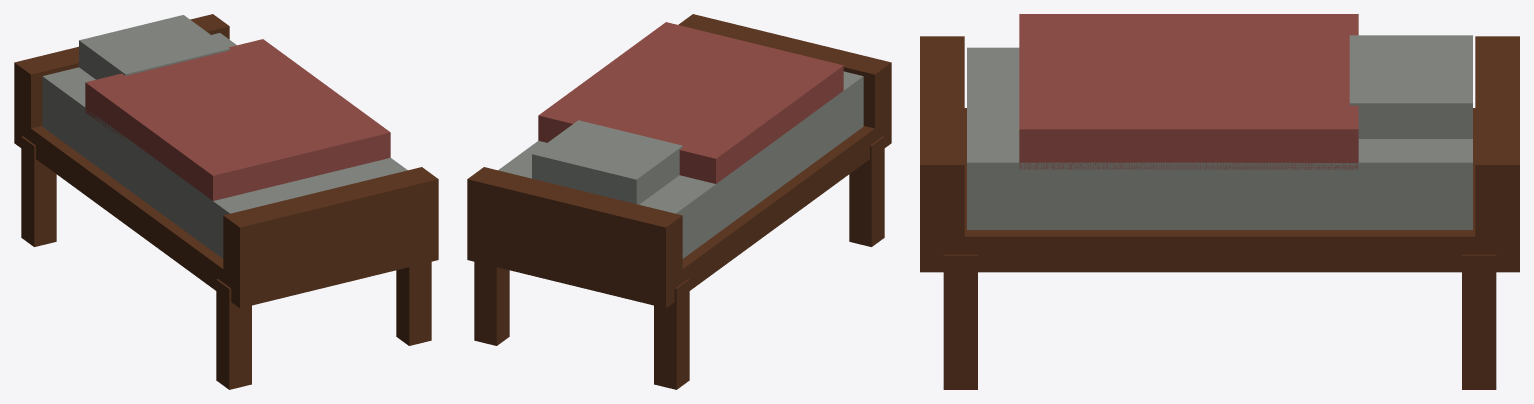
The model's file is cot.glb.
3 renders of one model, left to right at view 1: azimuth 30°, elevation 25°; view 2: azimuth 150°, elevation 25°; view 3: azimuth 270°, elevation 25°, orthographic. The views are drawn at different scales.
Parts seen in each view (by area): view 1: body; view 2: body; view 3: body.
Part boxes in pixels (<box>): body: <box>14,14,438,389</box>; body: <box>467,14,891,389</box>; body: <box>920,14,1519,389</box>.
Size of the model in its own units: 0.629 by 0.57 by 1.22.
Materials: 1 (1 with a texture image).
